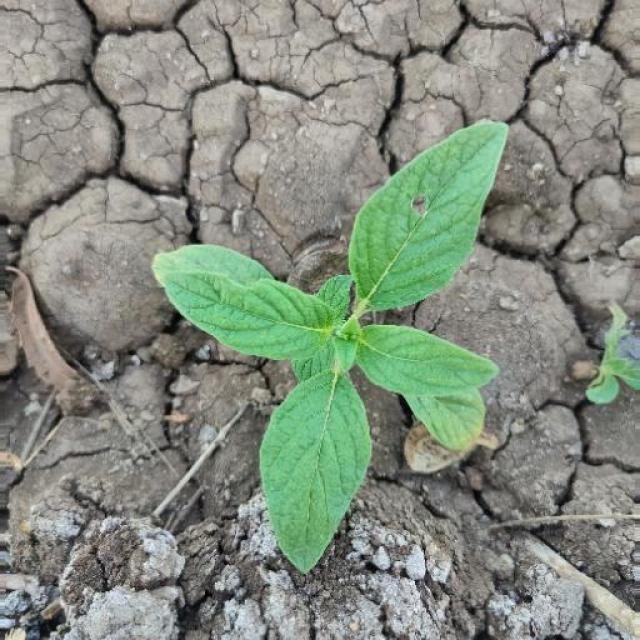crop: (155, 90, 511, 584)
